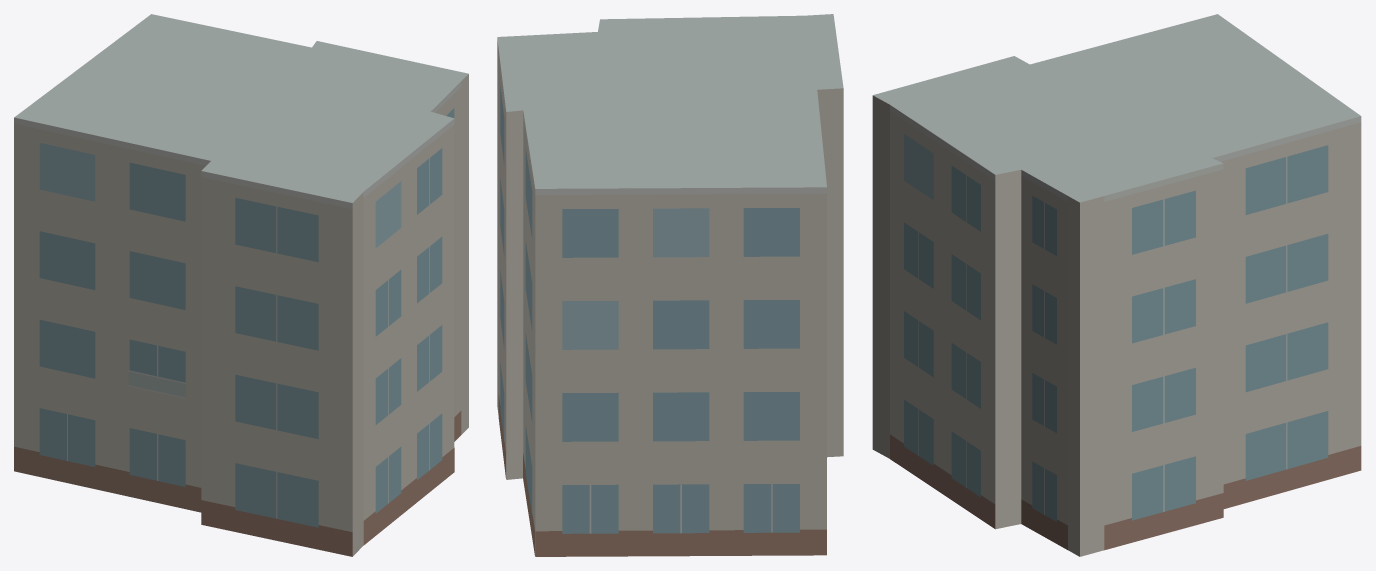
File: survey-upis-32491003.glb
The picture shows the model from 3 angles, left to right: view 1: azimuth 30°, elevation 25°; view 2: azimuth 150°, elevation 25°; view 3: azimuth 270°, elevation 25°; orthographic projection. The views are drawn at different scales.
Visible parts, largest first — view 1: survey-upis-32491003.tmp; view 2: survey-upis-32491003.tmp; view 3: survey-upis-32491003.tmp.
Part boxes in pixels (box(x1,y1,x2,y2)): survey-upis-32491003.tmp: box(14, 14, 468, 556); survey-upis-32491003.tmp: box(497, 14, 843, 556); survey-upis-32491003.tmp: box(872, 14, 1361, 556).
Bounding box in the file's own units: 16.45 × 14.4 × 18.01.
